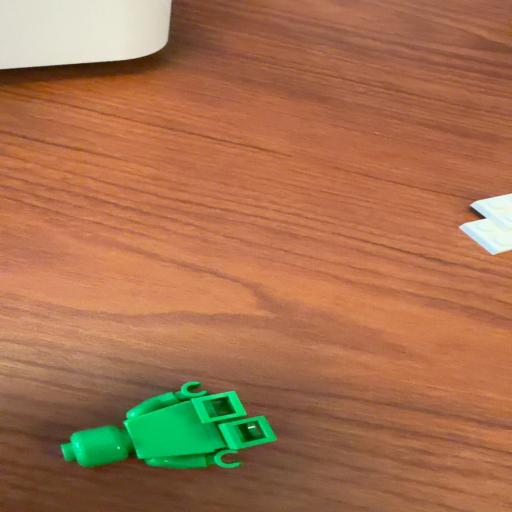UnoQ-minifig-detector: (60, 381, 277, 469)
